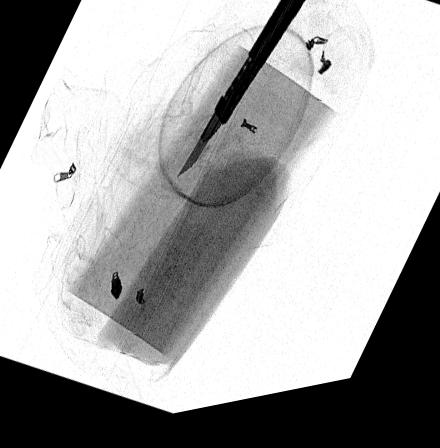Knife: (176, 0, 315, 184)
